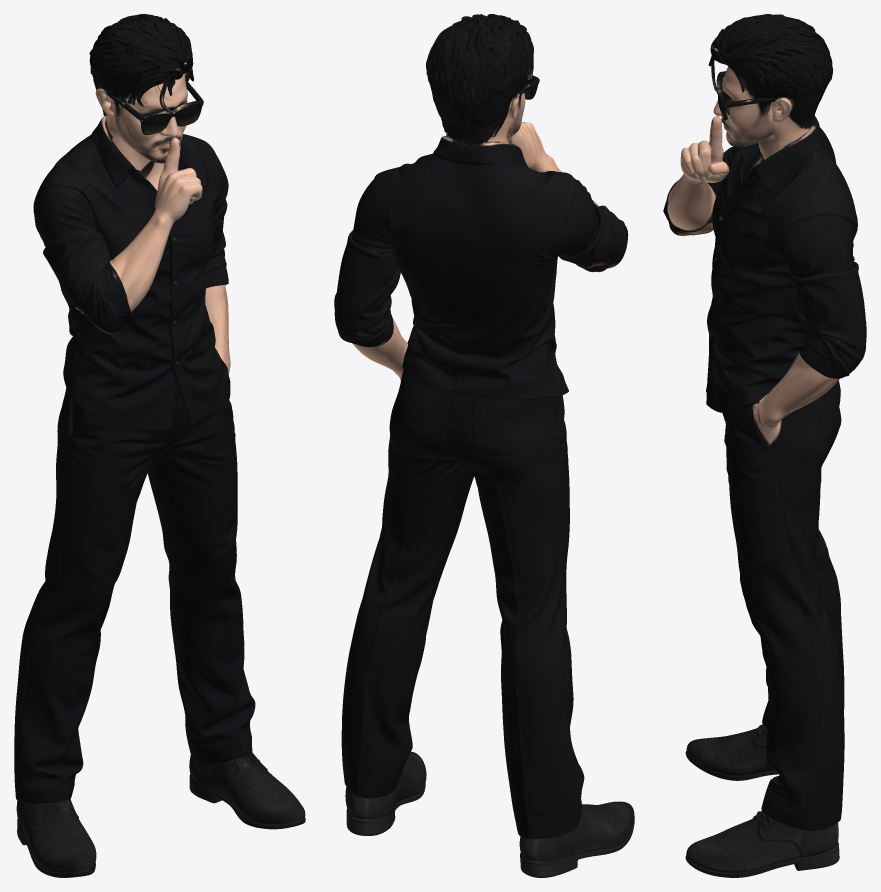
The model's file is silent-shadow.glb.
The picture shows the model from 3 angles, left to right: view 1: azimuth 30°, elevation 25°; view 2: azimuth 150°, elevation 25°; view 3: azimuth 270°, elevation 25°; orthographic projection.
Bounding box in the file's own units: 0.624 × 1.9 × 0.4398.
Materials: 1 (1 with a texture image).
